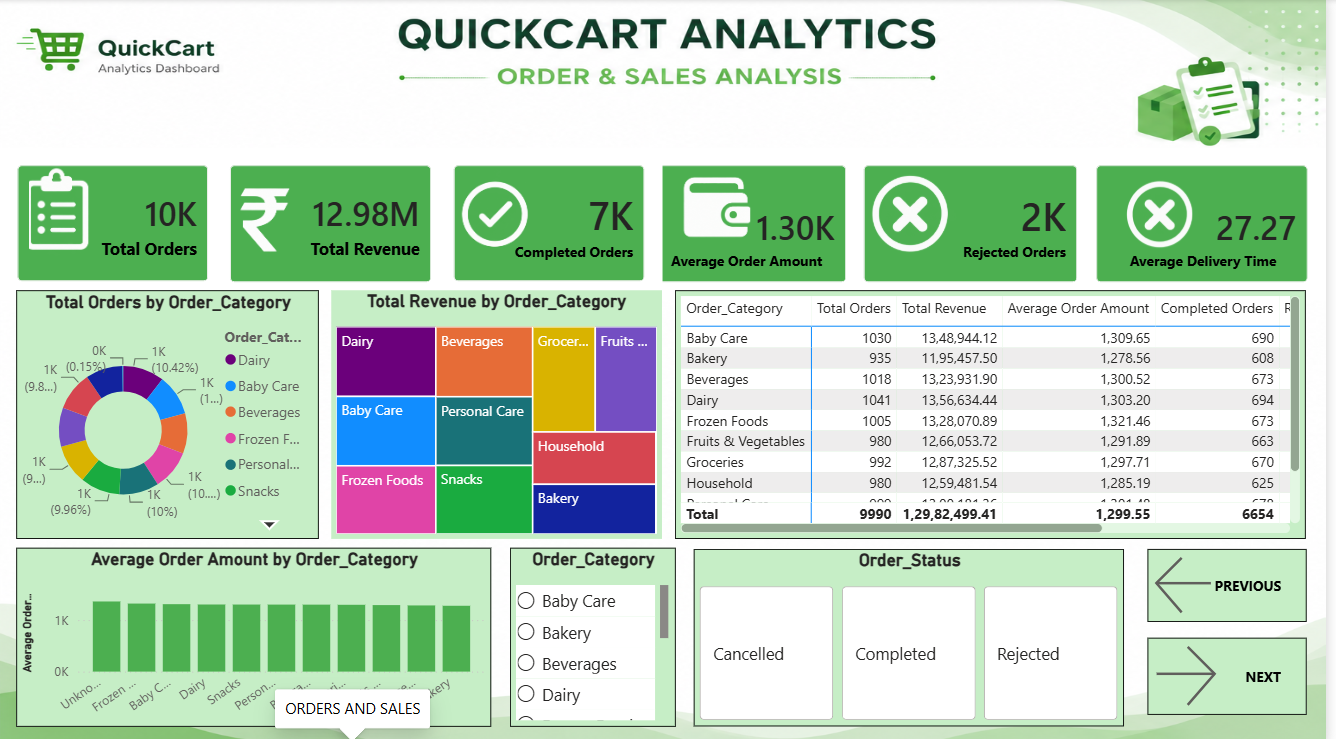

What the dashboard file says about the page in this screenshot:
{"tool":"powerbi","page":{"name":"ORDERS AND SALES","canvas":[1280,720],"ordinal":1},"visuals":[{"type":"cardVisual","fields":{"Data":["All Measures.Total Orders"]},"box":[0,143.6,218.2,146.8],"z":0},{"type":"image","box":[0,158,139.9,90.5],"z":1000},{"type":"cardVisual","fields":{"Data":["All Measures.Total Revenue"]},"box":[205.1,143.6,228,147.2],"z":2000},{"type":"image","box":[173.7,147.2,174.9,105],"z":3000},{"type":"cardVisual","fields":{"Data":["All Measures.Average Order Amount"]},"box":[605.6,143.6,228,147.2],"z":4000},{"type":"image","box":[605.6,132.7,176.1,114.6],"z":5000},{"type":"cardVisual","fields":{"Data":["All Measures.Completed Orders"]},"box":[421,143.6,218.2,146.8],"z":6000},{"type":"image","box":[382.4,164.1,182.2,105],"z":7000},{"type":"cardVisual","fields":{"Data":["All Measures.Rejected Orders"]},"box":[816.8,143.6,240.1,147.2],"z":8000},{"type":"image","box":[815.6,165.3,119.4,91.7],"z":9000},{"type":"cardVisual","fields":{"Data":["All Measures.Average Delivery Time"]},"box":[1041.2,143.6,238.9,147.2],"z":10000},{"type":"image","box":[1056.8,171.3,119.4,79.6],"z":11000},{"type":"columnChart","fields":{"Category":["quickcartdb store_orders.Order_Category"],"Y":["All Measures.Average Order Amount"]},"box":[15.6,529.9,458.4,172.7],"z":12000},{"type":"donutChart","fields":{"Category":["quickcartdb store_orders.Order_Category"],"Y":["All Measures.Total Orders"]},"box":[15.6,280.5,292.2,240.3],"z":13000},{"type":"pivotTable","fields":{"Rows":["quickcartdb store_orders.Order_Category"],"Values":["All Measures.Total Orders","All Measures.Total Revenue","All Measures.Average Order Amount","All Measures.Completed Orders","All Measures.Rejected Orders","All Measures.Cancelled Orders"]},"box":[651.9,280.5,609.1,240.3],"z":14000},{"type":"actionButton","box":[1107.8,531.2,153.2,70.1],"z":15000},{"type":"actionButton","box":[1107.8,616.9,153.2,74],"z":16000},{"type":"treemap","fields":{"Group":["quickcartdb store_orders.Order_Category"],"Values":["All Measures.Total Revenue"]},"box":[319.5,280.5,319.5,240.3],"z":17000},{"type":"listSlicer","fields":{"Values":["quickcartdb store_orders.Order_Category"]},"box":[492.2,529.9,159.7,172.7],"z":18000},{"type":"advancedSlicerVisual","fields":{"Values":["quickcartdb store_orders.Order_Status"]},"box":[670.1,531.2,415.6,171.4],"z":19000}]}

Visuals, with their boxes in screenshot pixels (x1, y1, x2, y2), scaled from the page's 1280x720 canvas onto the 1336x739 screenshot:
cardVisual - All Measures.Total Orders: crop(0, 147, 228, 298)
image: crop(0, 162, 146, 255)
cardVisual - All Measures.Total Revenue: crop(214, 147, 452, 298)
image: crop(181, 151, 364, 259)
cardVisual - All Measures.Average Order Amount: crop(632, 147, 870, 298)
image: crop(632, 136, 816, 254)
cardVisual - All Measures.Completed Orders: crop(439, 147, 667, 298)
image: crop(399, 168, 589, 276)
cardVisual - All Measures.Rejected Orders: crop(853, 147, 1103, 298)
image: crop(851, 170, 976, 264)
cardVisual - All Measures.Average Delivery Time: crop(1087, 147, 1335, 298)
image: crop(1103, 176, 1228, 258)
columnChart - quickcartdb store_orders.Order_Category x All Measures.Average Order Amount: crop(16, 544, 495, 721)
donutChart - quickcartdb store_orders.Order_Category x All Measures.Total Orders: crop(16, 288, 321, 535)
pivotTable - quickcartdb store_orders.Order_Category x All Measures.Total Orders: crop(680, 288, 1316, 535)
actionButton: crop(1156, 545, 1316, 617)
actionButton: crop(1156, 633, 1316, 709)
treemap - quickcartdb store_orders.Order_Category x All Measures.Total Revenue: crop(333, 288, 667, 535)
listSlicer - quickcartdb store_orders.Order_Category: crop(514, 544, 680, 721)
advancedSlicerVisual - quickcartdb store_orders.Order_Status: crop(699, 545, 1133, 721)
